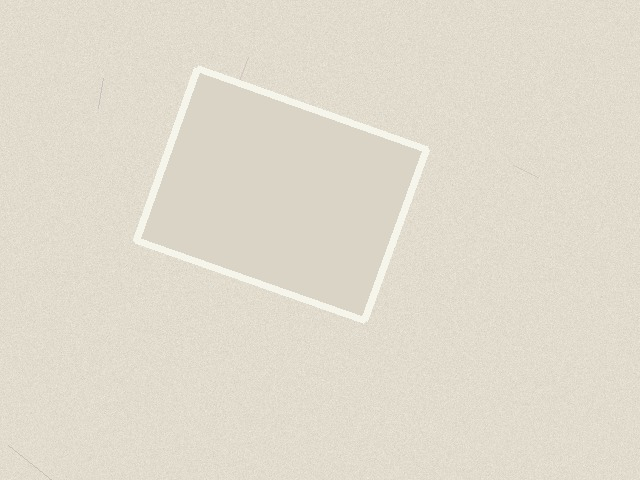parking_area: (136, 68, 426, 320)
